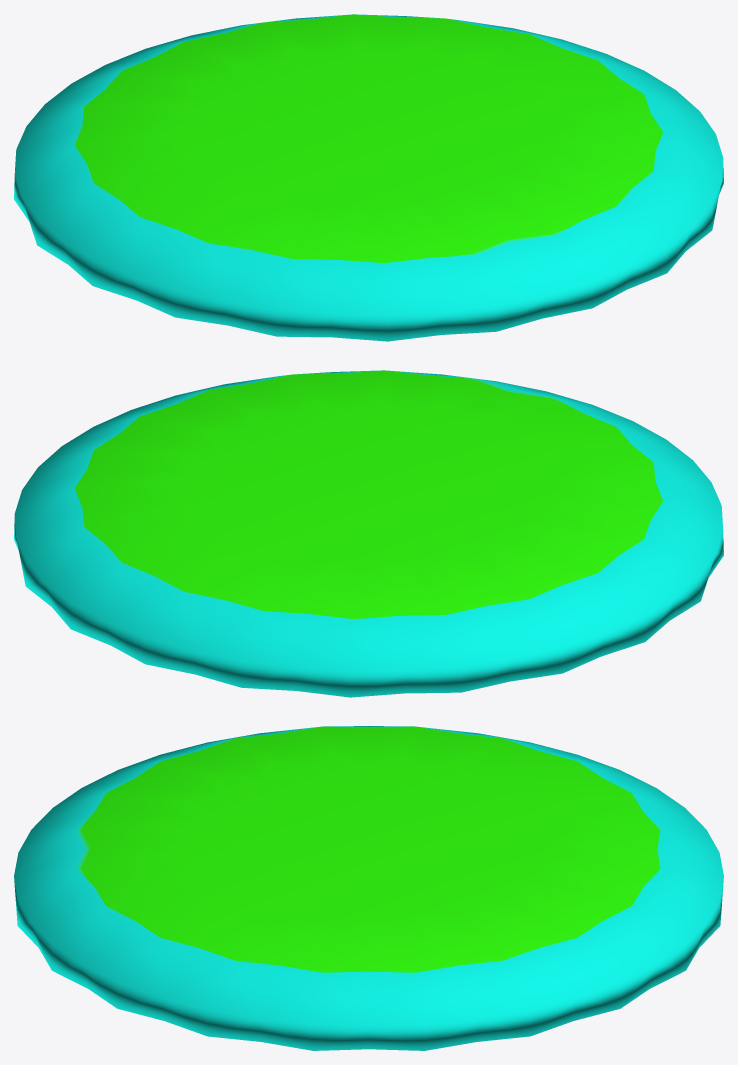
Rendered from pickup_green.fbx.
3 renders of one model, top to bottom at view 1: azimuth 30°, elevation 25°; view 2: azimuth 150°, elevation 25°; view 3: azimuth 270°, elevation 25°, orthographic.
Parts seen in each view (by area): view 1: pCylinder1; view 2: pCylinder1; view 3: pCylinder1.
Part boxes in pixels (x1,y1,x2,y2): pCylinder1: [14, 14, 723, 341]; pCylinder1: [14, 370, 723, 697]; pCylinder1: [14, 726, 723, 1050].
Bounding box in the file's own units: 1.75 × 0.1917 × 1.75.
Materials: 1 (1 with a texture image).
